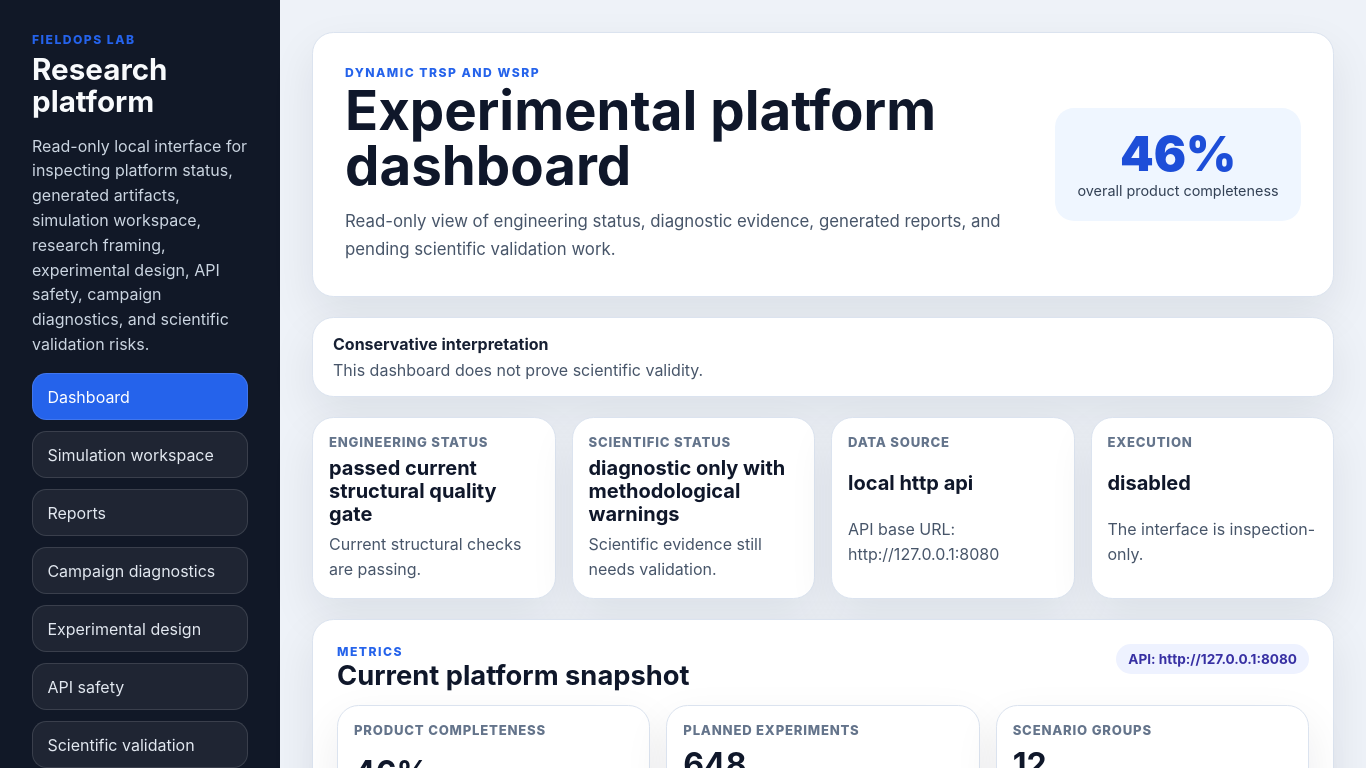
App dashboard › navigates to report catalog and loads report details
Expected: the heading "Experimental platform dashboard" is shown, left=345, top=83, right=1023, bottom=192
Click the button "Reports": x=140, y=513 left=32, top=489, right=248, bottom=536
(page scrolled)
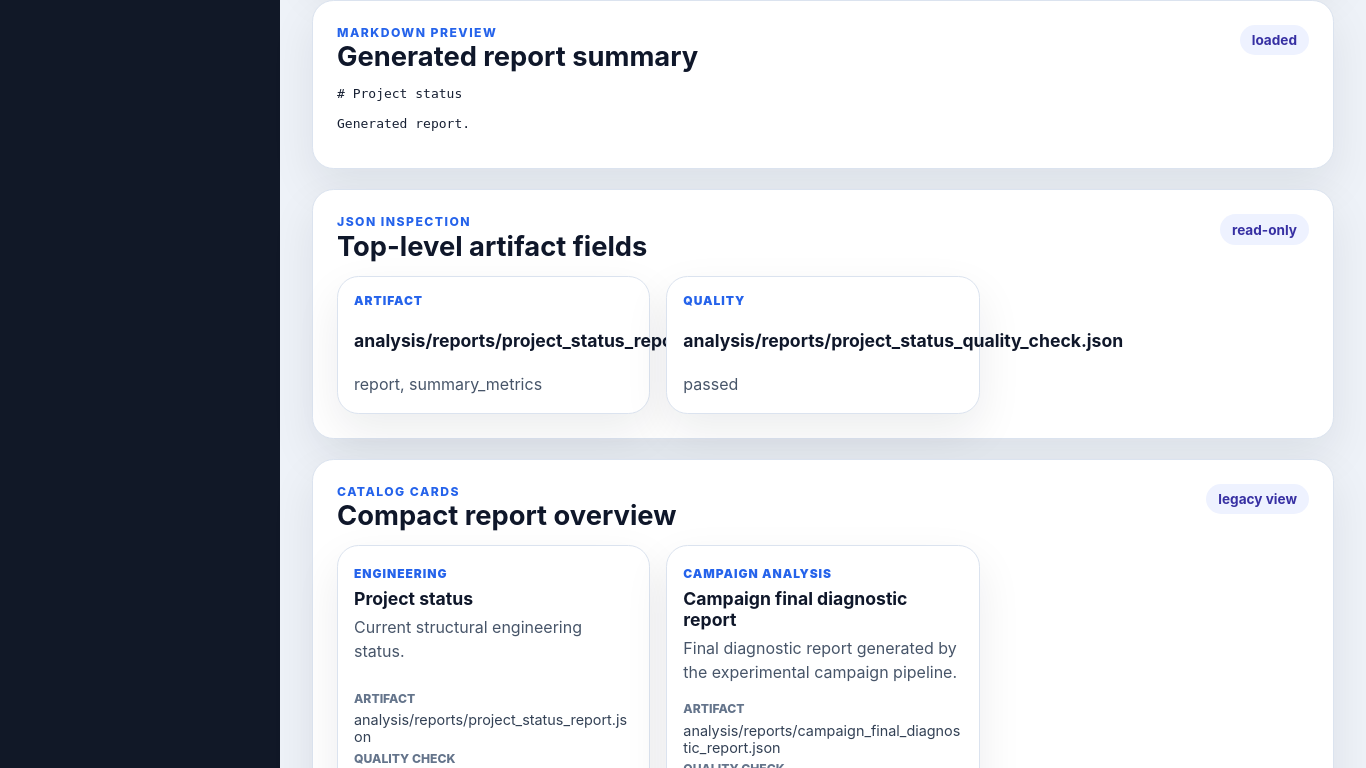
Result: the text "# Project status Generated report." is shown at left=337, top=86, right=470, bottom=131
Result: the heading "Top-level artifact fields" is shown at left=337, top=233, right=647, bottom=260
Result: the text "report, summary_metrics" is shown at left=354, top=374, right=542, bottom=394
